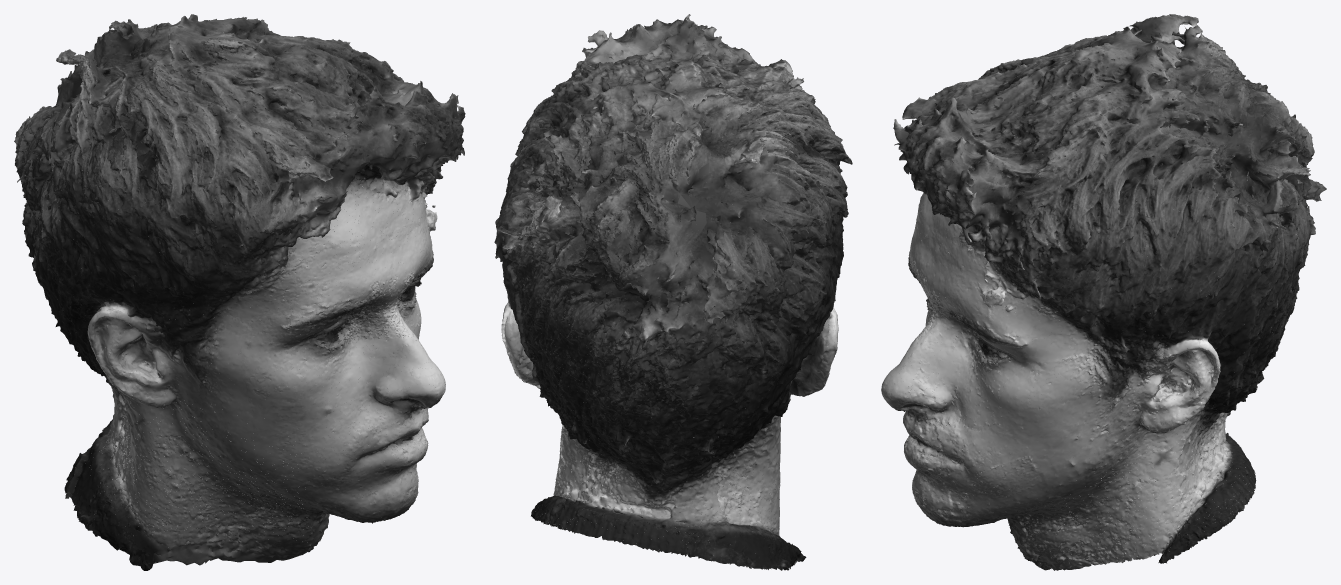
File: 石膏头像_男中青年_低头男青年01_opt.glb
3 views of the same model, side by side, from view 1: azimuth 30°, elevation 25°; view 2: azimuth 150°, elevation 25°; view 3: azimuth 270°, elevation 25° (orthographic). The views are drawn at different scales.
Parts seen in each view (by area): view 1: model_Material_u1_v1_4, model_Material_u1_v1_2, model_Material_u1_v1, model_Material_u1_v1_6, model_Material_u1_v1_18, model_Material_u1_v1_8, model_Material_u1_v1_10, model_Material_u1_v1_12, model_Material_u1_v1_16, model_Material_u1_v1_14, model_Material_u1_v1_1, model_Material_u1_v1_19 (+8 smaller); view 2: model_Material_u1_v1_2, model_Material_u1_v1_4, model_Material_u1_v1_6, model_Material_u1_v1_8, model_Material_u1_v1, model_Material_u1_v1_18, model_Material_u1_v1_12, model_Material_u1_v1_16, model_Material_u1_v1_10, model_Material_u1_v1_14, model_Material_u1_v1_7, model_Material_u1_v1_9 (+8 smaller); view 3: model_Material_u1_v1_12, model_Material_u1_v1_14, model_Material_u1_v1_10, model_Material_u1_v1_16, model_Material_u1_v1_18, model_Material_u1_v1_2, model_Material_u1_v1_4, model_Material_u1_v1_17, model_Material_u1_v1_15, model_Material_u1_v1_13, model_Material_u1_v1_19, model_Material_u1_v1_11 (+6 smaller).
Part boxes in pixels (bbox=[...]): model_Material_u1_v1_4: bbox=[50, 14, 425, 543]; model_Material_u1_v1_2: bbox=[16, 19, 426, 499]; model_Material_u1_v1: bbox=[22, 64, 363, 501]; model_Material_u1_v1_6: bbox=[15, 70, 439, 512]; model_Material_u1_v1_18: bbox=[64, 15, 463, 570]; model_Material_u1_v1_8: bbox=[14, 19, 383, 516]; model_Material_u1_v1_10: bbox=[89, 30, 452, 520]; model_Material_u1_v1_12: bbox=[237, 59, 464, 519]; model_Material_u1_v1_16: bbox=[242, 26, 465, 352]; model_Material_u1_v1_14: bbox=[296, 111, 464, 505]; model_Material_u1_v1_1: bbox=[20, 64, 360, 500]; model_Material_u1_v1_19: bbox=[65, 14, 463, 569]; model_Material_u1_v1_2: bbox=[529, 47, 848, 554]; model_Material_u1_v1_4: bbox=[552, 45, 846, 534]; model_Material_u1_v1_6: bbox=[569, 19, 848, 557]; model_Material_u1_v1_8: bbox=[559, 49, 834, 509]; model_Material_u1_v1: bbox=[551, 90, 852, 512]; model_Material_u1_v1_18: bbox=[531, 14, 806, 570]; model_Material_u1_v1_12: bbox=[495, 47, 647, 531]; model_Material_u1_v1_16: bbox=[495, 20, 743, 520]; model_Material_u1_v1_10: bbox=[496, 40, 767, 542]; model_Material_u1_v1_14: bbox=[494, 48, 648, 505]; model_Material_u1_v1_7: bbox=[570, 25, 847, 556]; model_Material_u1_v1_9: bbox=[561, 56, 834, 541]; model_Material_u1_v1_12: bbox=[887, 143, 1309, 540]; model_Material_u1_v1_14: bbox=[881, 143, 1310, 518]; model_Material_u1_v1_10: bbox=[898, 30, 1296, 535]; model_Material_u1_v1_16: bbox=[894, 75, 1286, 521]; model_Material_u1_v1_18: bbox=[882, 25, 1290, 570]; model_Material_u1_v1_2: bbox=[893, 32, 1314, 535]; model_Material_u1_v1_4: bbox=[904, 14, 1320, 542]; model_Material_u1_v1_17: bbox=[896, 75, 1284, 520]; model_Material_u1_v1_15: bbox=[884, 147, 1309, 521]; model_Material_u1_v1_13: bbox=[894, 143, 1300, 535]; model_Material_u1_v1_19: bbox=[882, 26, 1288, 568]; model_Material_u1_v1_11: bbox=[899, 30, 1295, 533].
Bounding box in the file's own units: 0.2154 × 0.3 × 0.2423.
Materials: 1 (1 with a texture image).
